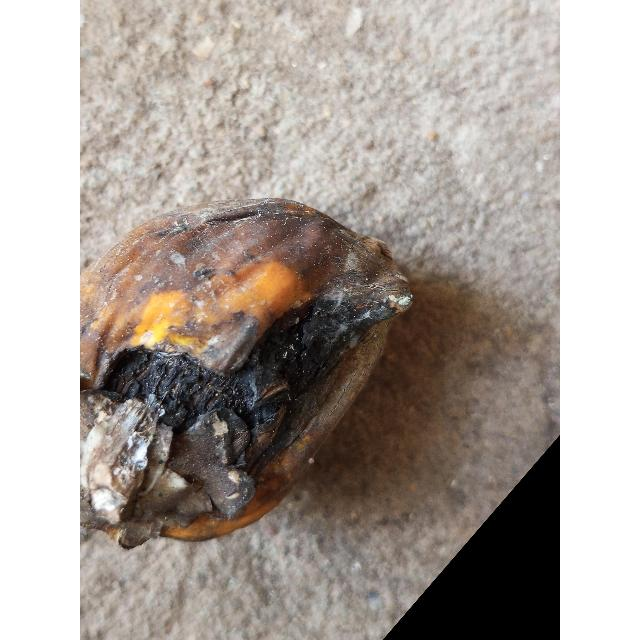damaged: (80, 200, 412, 548)
